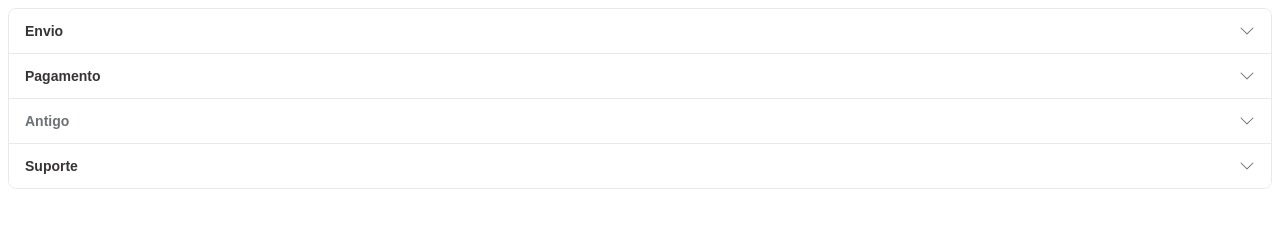
Scenario: Accordion › fecha a secao aberta quando ela e clicada de novo, em modo unico
The image size is (1280, 242).
Click the button "Envio": (44, 31) top-left (9, 9), bottom-right (1271, 53)
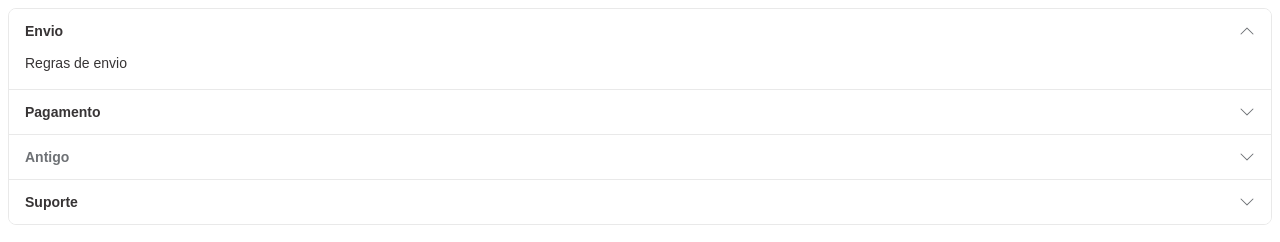
Now the button "Envio" is expanded
Click the button "Envio": (44, 31) top-left (9, 9), bottom-right (1271, 53)
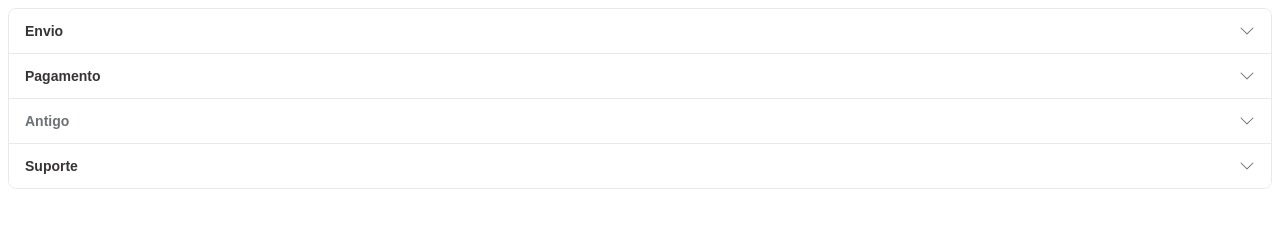
Now the button "Envio" is collapsed, box top-left (9, 9), bottom-right (1271, 53)
